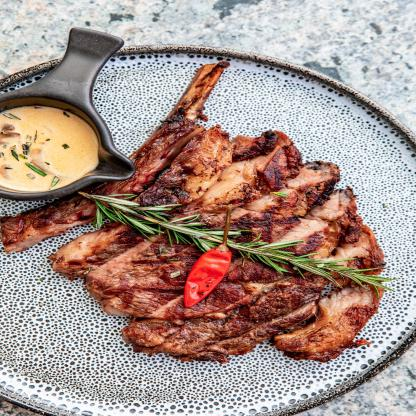Carne: (188, 131, 315, 204), (154, 127, 244, 203), (146, 131, 244, 196), (244, 163, 350, 219), (77, 244, 182, 299), (284, 294, 375, 356), (278, 189, 366, 250), (42, 232, 133, 277), (177, 307, 253, 356), (100, 287, 180, 318), (333, 233, 397, 266), (226, 261, 266, 312)
